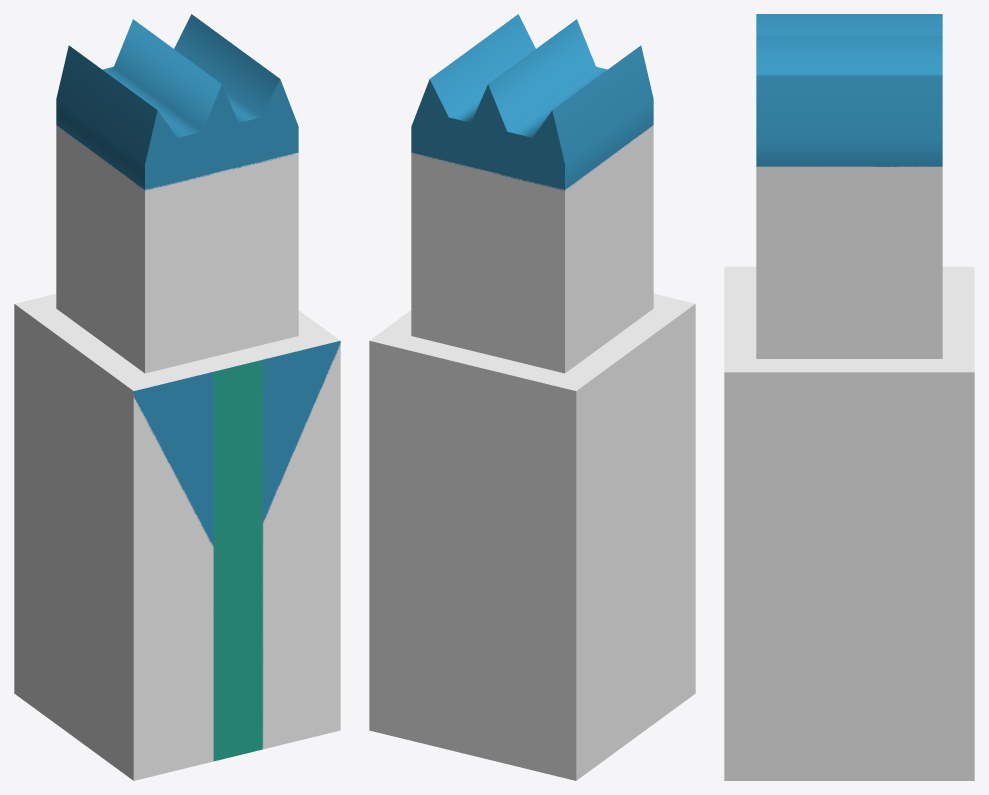
Rendered from wicked rick.fbx.
3 renders of one model, left to right at view 1: azimuth 30°, elevation 25°; view 2: azimuth 150°, elevation 25°; view 3: azimuth 270°, elevation 25°, orthographic. The views are drawn at different scales.
Visible parts, largest first — view 1: pCube14; view 2: pCube14; view 3: pCube14.
Boxes of the visible parts, left/top/right/bottom form: pCube14: left=14, top=14, right=340, bottom=780; pCube14: left=369, top=14, right=695, bottom=780; pCube14: left=724, top=14, right=974, bottom=780.
Size of the model in its own units: 2.36 by 7.21 by 2.36.
